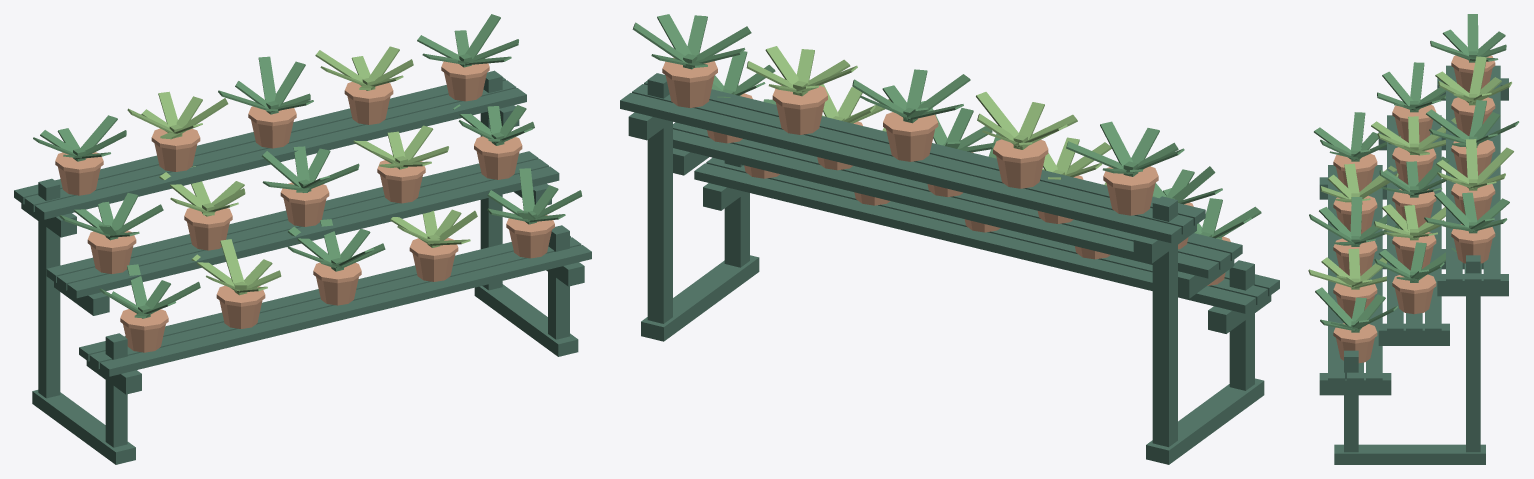
File: botanical-glasshouse-and-palm-house-botanical-glasshou-b7c0af53__38572.glb
3 renders of one model, left to right at view 1: azimuth 30°, elevation 25°; view 2: azimuth 150°, elevation 25°; view 3: azimuth 270°, elevation 25°, orthographic. The views are drawn at different scales.
Parts seen in each view (by area): view 1: botanical-glasshouse-and-palm-house-staging-bench; view 2: botanical-glasshouse-and-palm-house-staging-bench; view 3: botanical-glasshouse-and-palm-house-staging-bench.
Part boxes in pixels (x1,y1,x2,y2): botanical-glasshouse-and-palm-house-staging-bench: [14, 14, 591, 464]; botanical-glasshouse-and-palm-house-staging-bench: [620, 14, 1279, 464]; botanical-glasshouse-and-palm-house-staging-bench: [1308, 14, 1519, 464].
Size of the model in its own units: 2.4 by 1.3 by 1.
